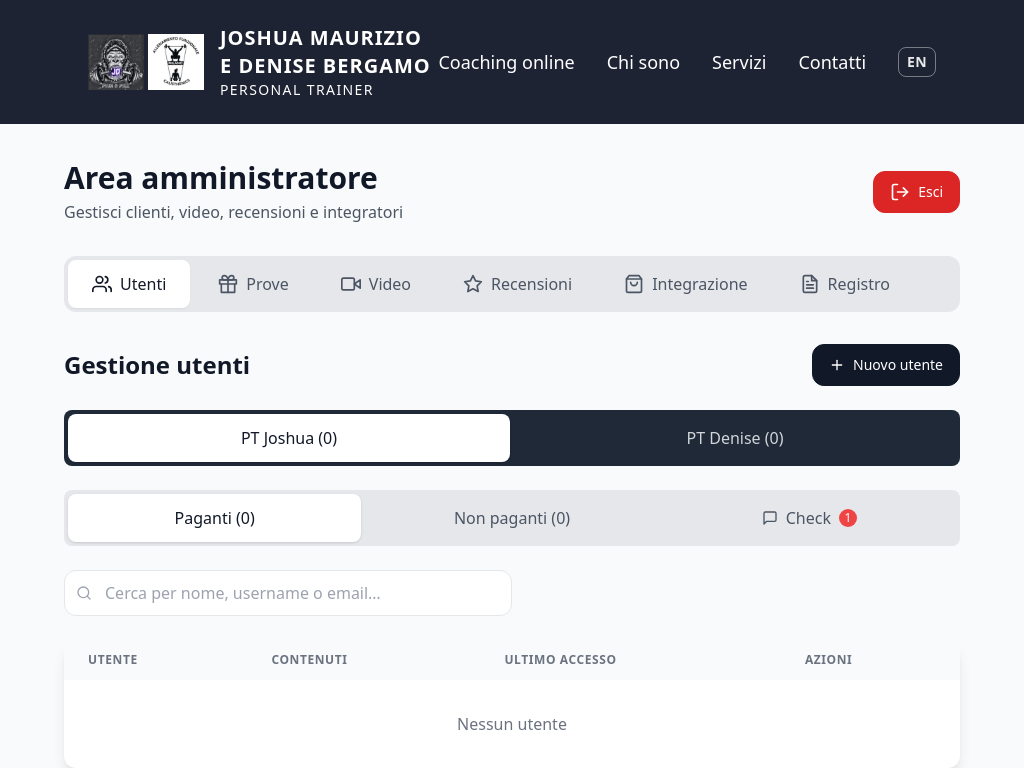
Test: AdminPage — check-ins › opens a new check-in, marks it as seen and shows translated answers
Click the button "Check 1" at [809, 518], box [663,494,956,542]
(page scrolled)
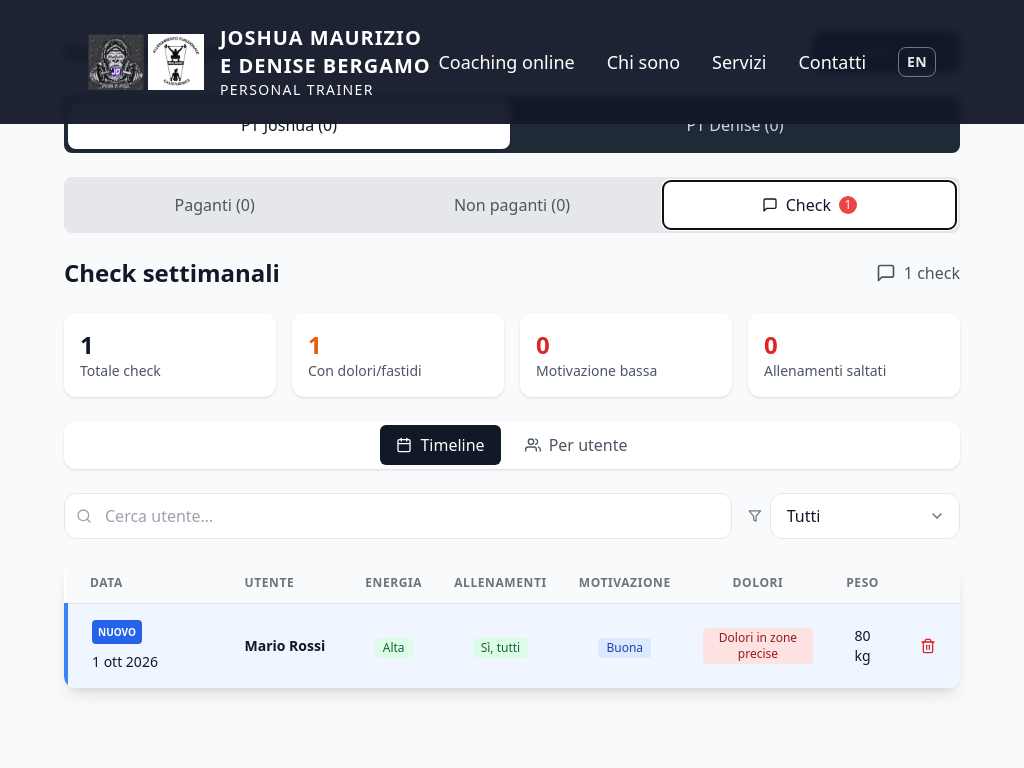
Click the button with aria-label "Apri il check di Mario Rossi" at [125, 662], box [92,652,158,672]
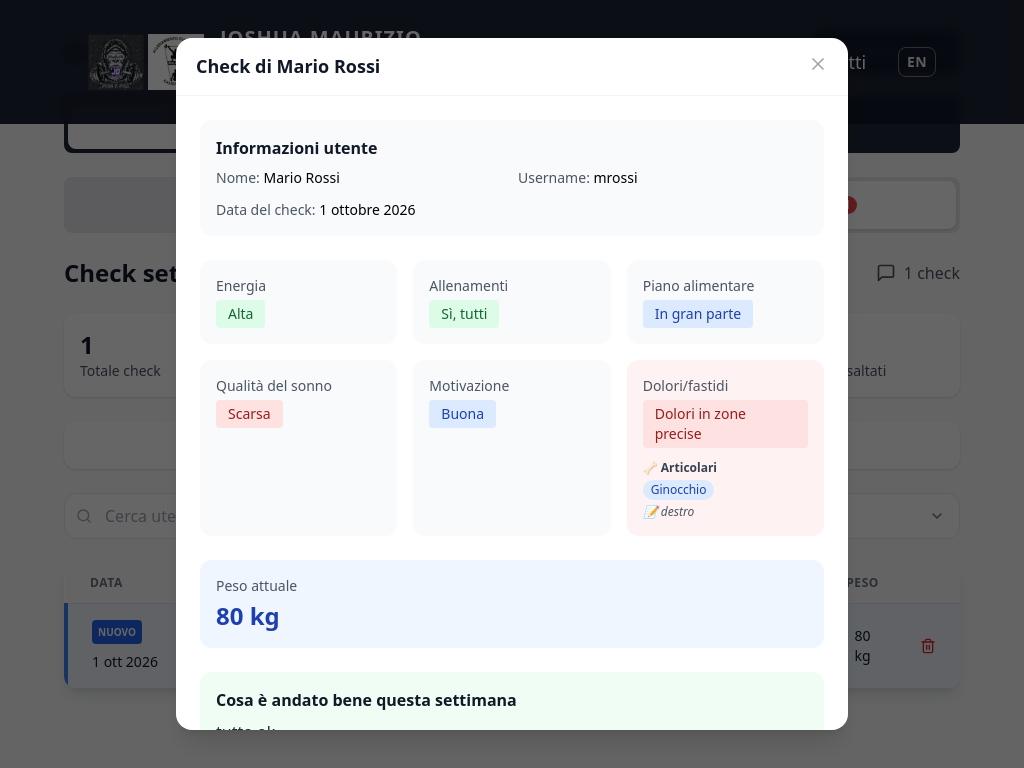
Check: the list item "Ginocchio" is shown, box [643,480,714,500]
Check: the text "Scarsa" is shown, box [216,400,283,428]
Check: the text "80 kg" is shown, box [216,599,280,632]
